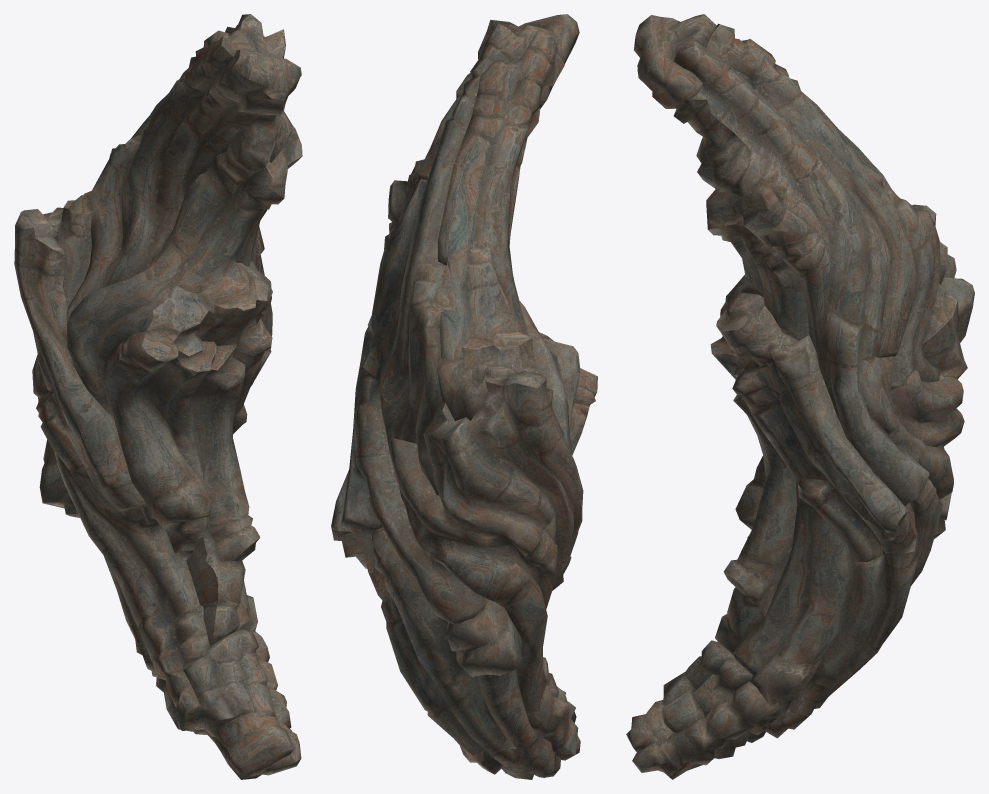
Rendered from bg_rad_kamen_rockpillar01a_sm.obj.
The picture shows the model from 3 angles, left to right: view 1: azimuth 30°, elevation 25°; view 2: azimuth 150°, elevation 25°; view 3: azimuth 270°, elevation 25°; orthographic projection. The views are drawn at different scales.
Visible parts, largest first — view 1: bg_rad_kamen_rockpillar01a_sm_1, bg_rad_kamen_rockpillar01a_sm_0; view 2: bg_rad_kamen_rockpillar01a_sm_0, bg_rad_kamen_rockpillar01a_sm_1; view 3: bg_rad_kamen_rockpillar01a_sm_0, bg_rad_kamen_rockpillar01a_sm_1.
Boxes of the visible parts, left/top/right/bottom form: bg_rad_kamen_rockpillar01a_sm_1: left=14, top=225, right=301, bottom=779; bg_rad_kamen_rockpillar01a_sm_0: left=15, top=14, right=302, bottom=433; bg_rad_kamen_rockpillar01a_sm_0: left=331, top=14, right=579, bottom=625; bg_rad_kamen_rockpillar01a_sm_1: left=331, top=368, right=597, bottom=779; bg_rad_kamen_rockpillar01a_sm_0: left=634, top=14, right=957, bottom=561; bg_rad_kamen_rockpillar01a_sm_1: left=626, top=214, right=974, bottom=779.
Size of the model in its own units: 2.22 by 7.1 by 2.95.
2 materials, 2 textured.
